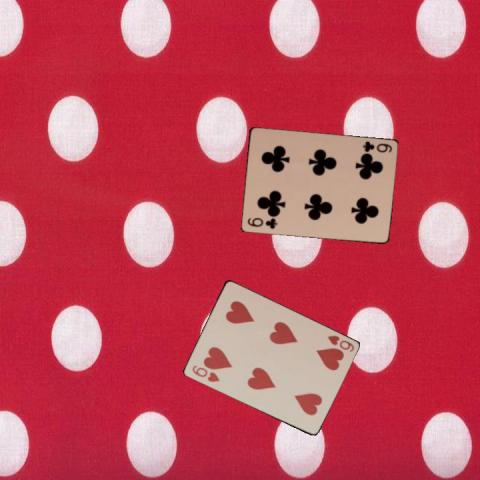6c: (244, 214, 278, 230), (359, 138, 393, 154)
6h: (188, 362, 220, 383), (324, 332, 355, 353)
